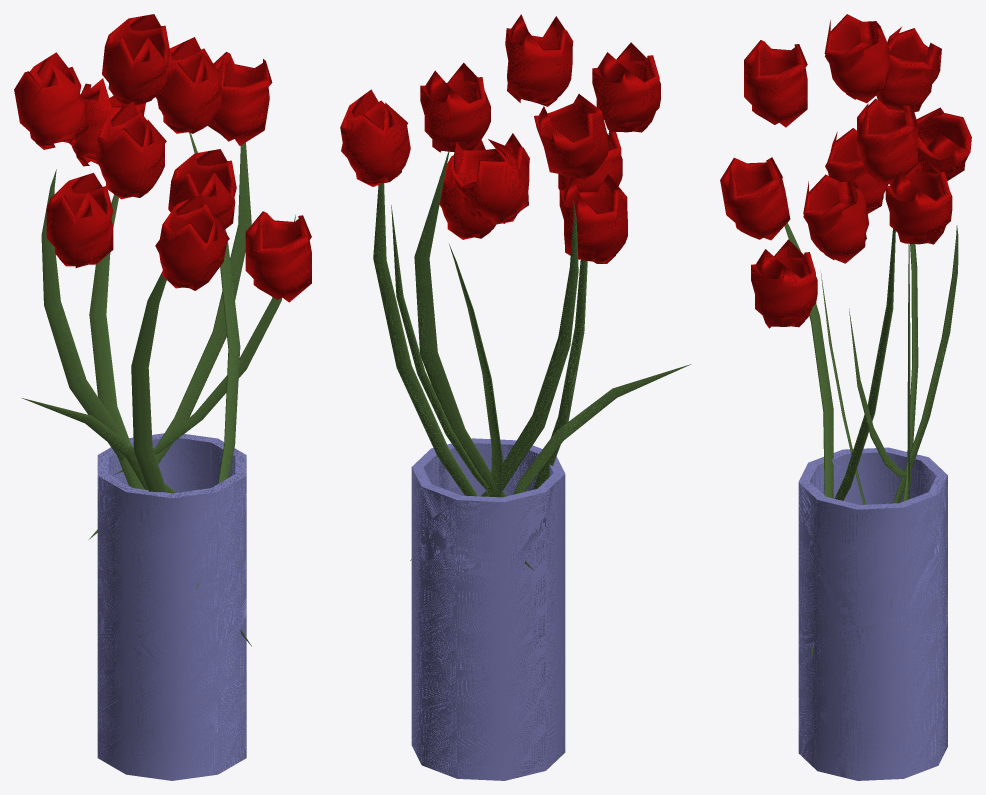
File: flowers.obj
3 views of the same model, side by side, from view 1: azimuth 30°, elevation 25°; view 2: azimuth 150°, elevation 25°; view 3: azimuth 270°, elevation 25° (orthographic). The views are drawn at different scales.
Parts seen in each view (by area): view 1: Flowers_1, Flowers_3, Flowers_2; view 2: Flowers_1, Flowers_3, Flowers_2; view 3: Flowers_1, Flowers_3, Flowers_2.
Boxes of the visible parts, x1,y1,x2,y2 form: Flowers_1: [97, 433, 246, 780]; Flowers_3: [14, 14, 311, 302]; Flowers_2: [22, 132, 295, 646]; Flowers_1: [411, 438, 565, 780]; Flowers_3: [340, 14, 660, 263]; Flowers_2: [373, 151, 691, 570]; Flowers_1: [798, 447, 947, 780]; Flowers_3: [720, 14, 971, 328]; Flowers_2: [784, 222, 958, 662].
Size of the model in its own units: 39.27 by 93.84 by 29.91.
